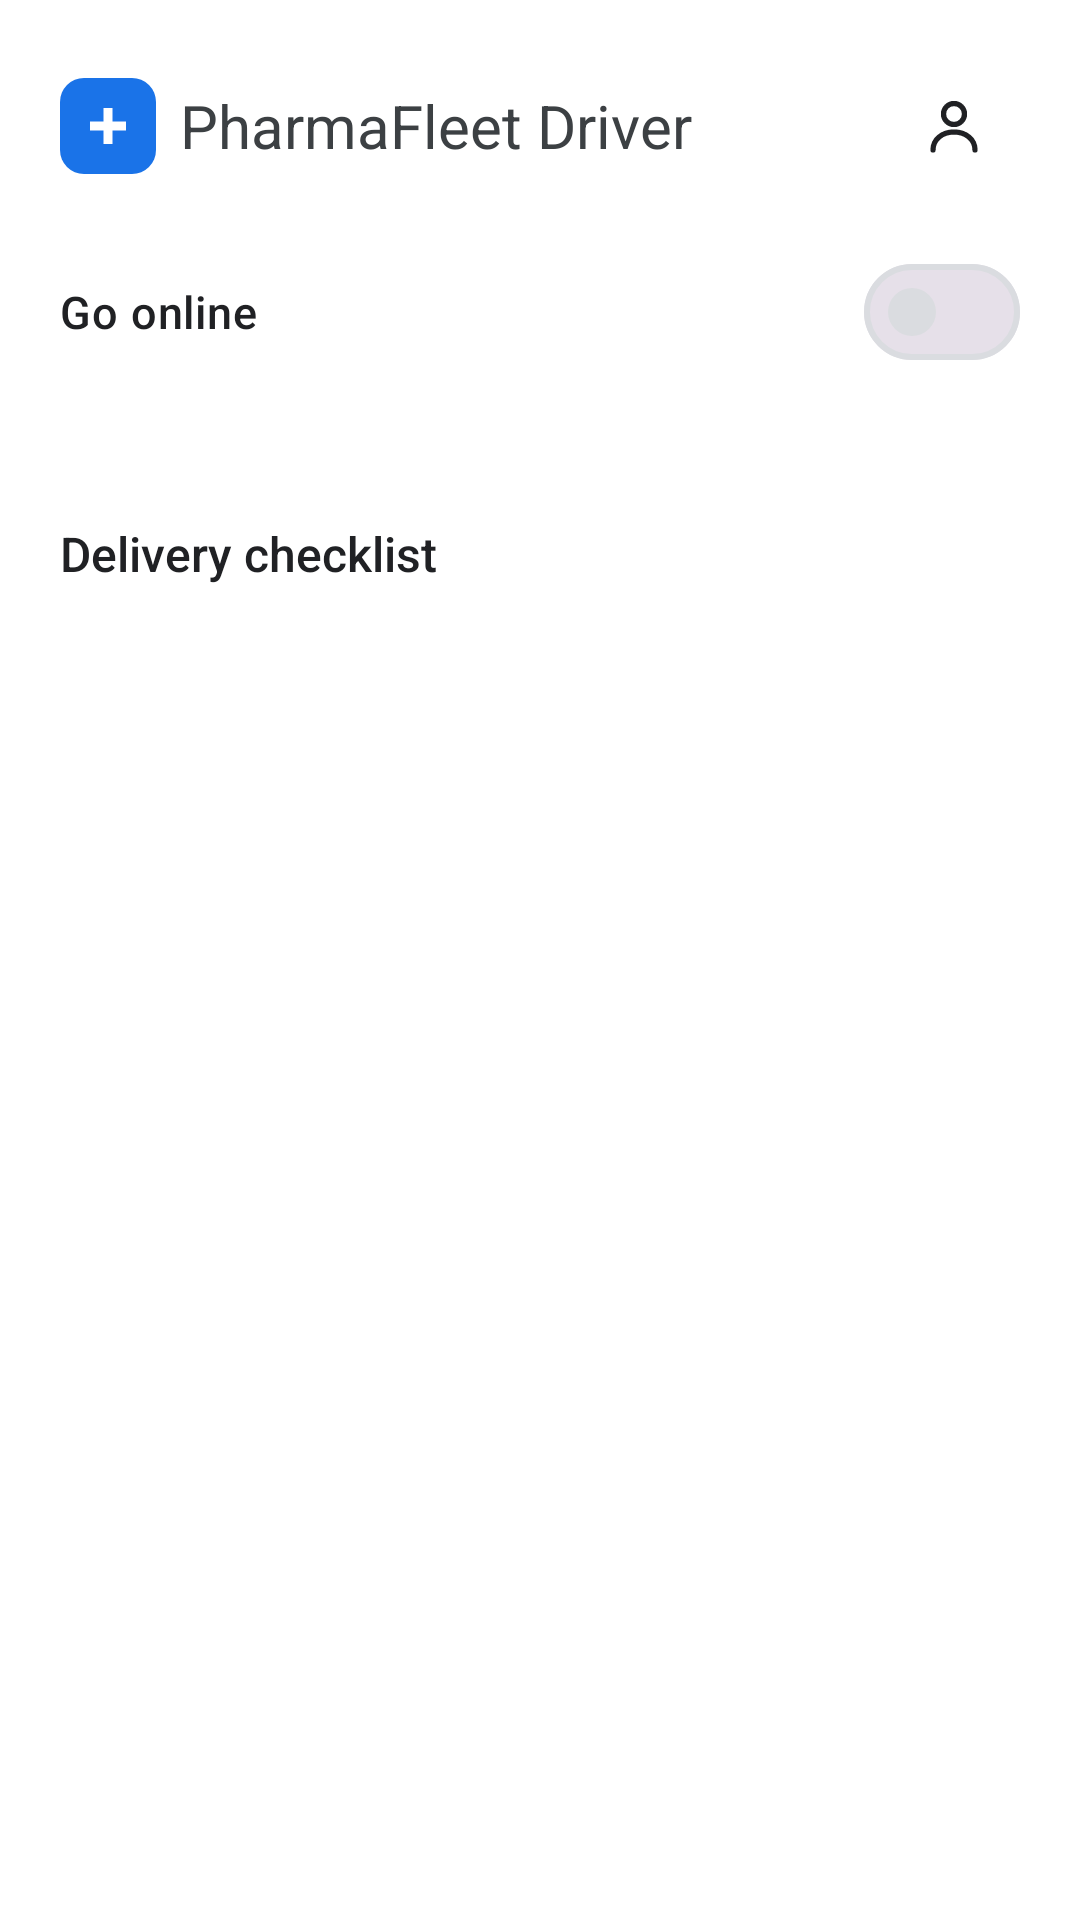

Icons on this 1080px x 1920px Android screen, each with the point to tap as (x=x, y=y):
Select driver: (x=954, y=127)
